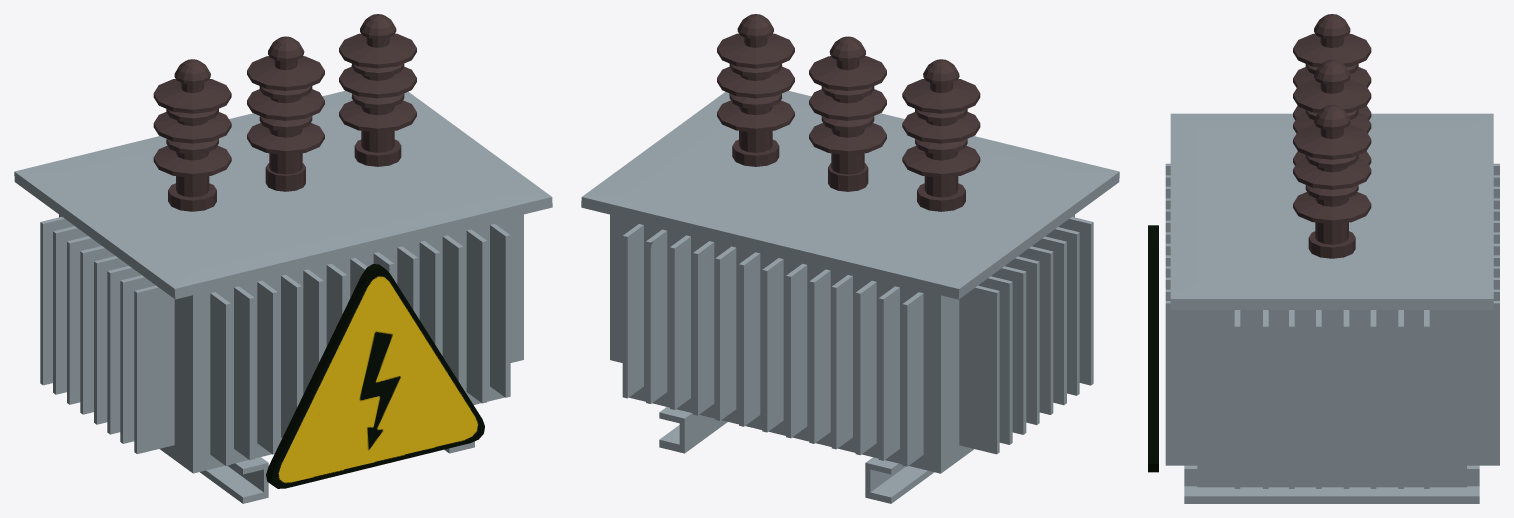
File: Transformer (1).fbx
The picture shows the model from 3 angles, left to right: view 1: azimuth 30°, elevation 25°; view 2: azimuth 150°, elevation 25°; view 3: azimuth 270°, elevation 25°; orthographic projection.
Visible parts, largest first — view 1: Cube; view 2: Cube; view 3: Cube.
Part boxes in pixels (<box>): Cube: <box>14,14,552,503</box>; Cube: <box>581,14,1119,503</box>; Cube: <box>1148,14,1499,503</box>.
Bounding box in the file's own units: 333 × 316 × 261.
1 material, 1 textured.
